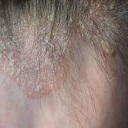Psoriasis: (4, 14, 78, 94)
